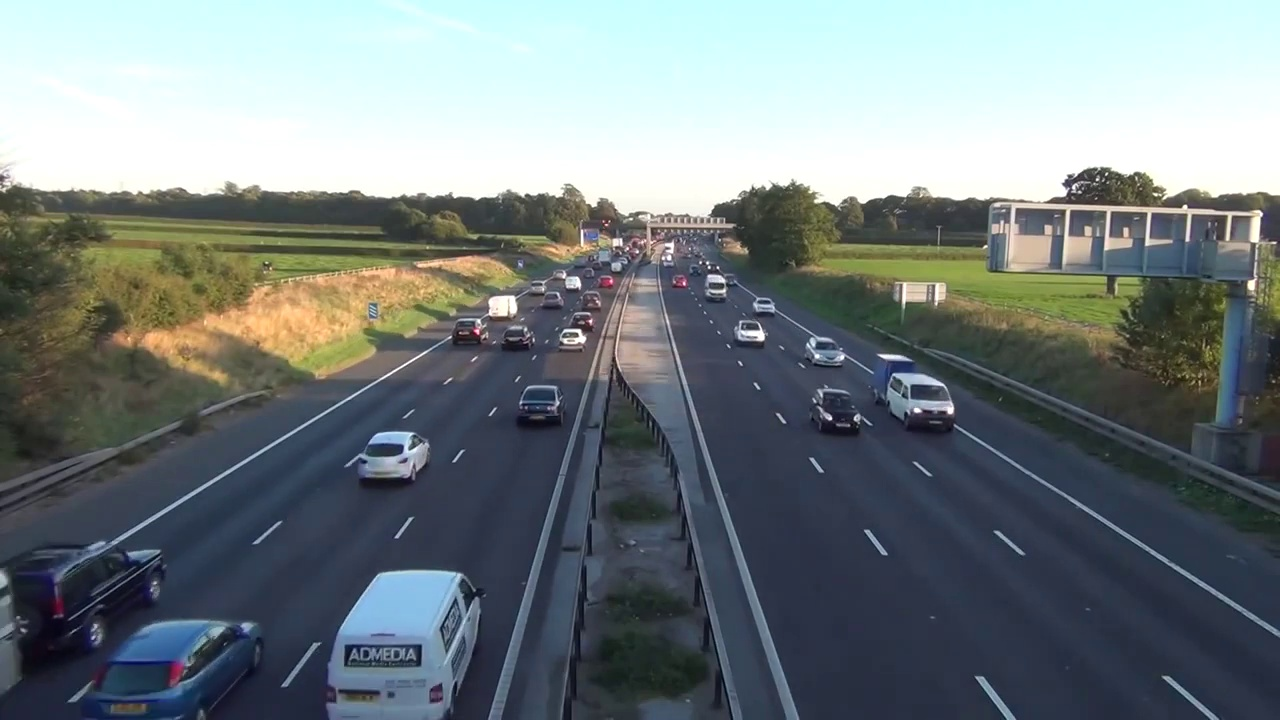bus: (0, 541, 169, 657), (87, 618, 265, 720), (886, 372, 955, 433), (358, 431, 431, 483), (809, 388, 862, 435), (516, 385, 568, 426), (803, 335, 845, 369), (452, 317, 489, 344), (734, 319, 768, 346), (502, 325, 537, 350), (558, 327, 587, 354), (752, 296, 776, 316), (581, 290, 602, 311), (542, 291, 564, 309), (563, 275, 582, 292), (530, 279, 546, 295), (598, 274, 615, 289), (672, 274, 687, 288), (725, 272, 738, 286), (552, 269, 567, 280), (688, 264, 701, 276)
car: (325, 568, 489, 720), (487, 294, 519, 320), (703, 273, 729, 303)
